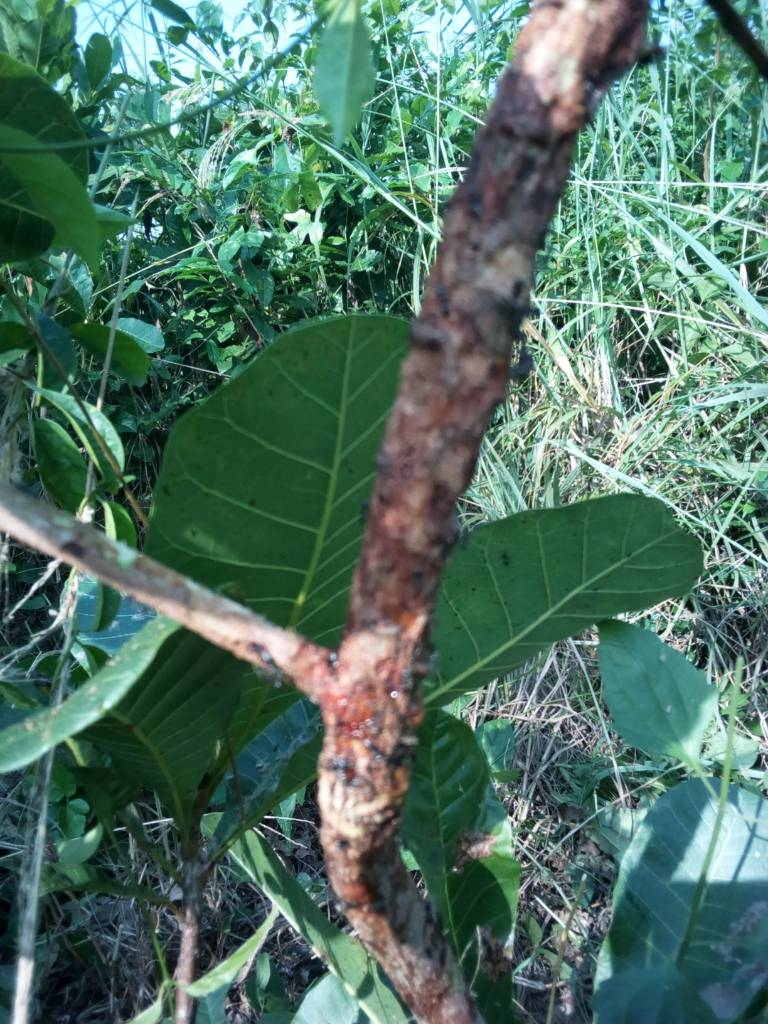Mecocorynus longiceps: (259, 581, 507, 931), (411, 48, 586, 445)
